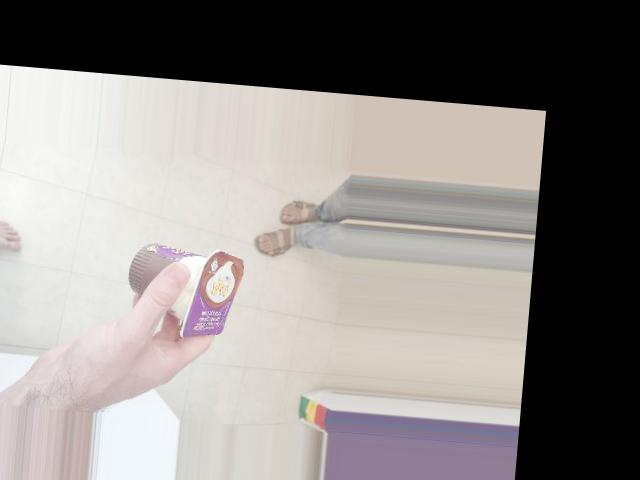milky: (164, 187, 260, 324)
